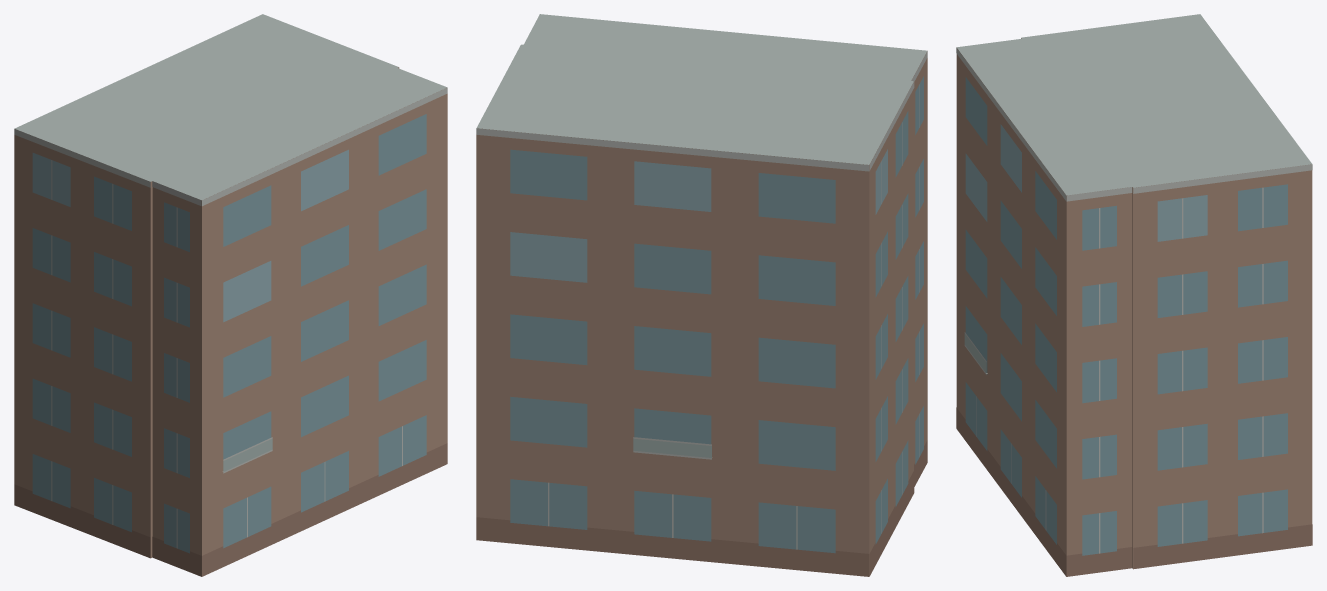
Rendered from survey-upis-32620183.glb.
3 views of the same model, side by side, from view 1: azimuth 30°, elevation 25°; view 2: azimuth 150°, elevation 25°; view 3: azimuth 270°, elevation 25° (orthographic). The views are drawn at different scales.
Visible parts, largest first — view 1: survey-upis-32620183.tmp; view 2: survey-upis-32620183.tmp; view 3: survey-upis-32620183.tmp.
Boxes of the visible parts, left/top/right/bottom form: survey-upis-32620183.tmp: left=14, top=14, right=447, bottom=576; survey-upis-32620183.tmp: left=476, top=14, right=927, bottom=576; survey-upis-32620183.tmp: left=956, top=14, right=1312, bottom=576.
Size of the model in its own units: 15.58 by 15.25 by 12.91.
